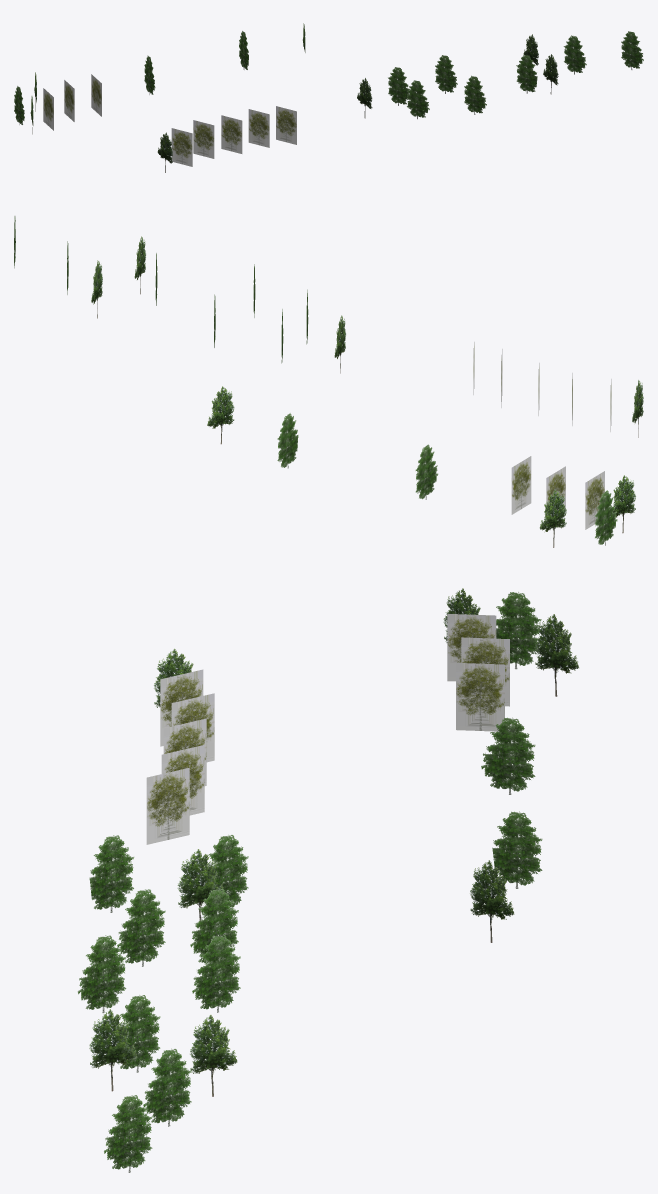
File: foliage1.FBX
The picture shows the model from 3 angles, top to bottom: view 1: azimuth 30°, elevation 25°; view 2: azimuth 150°, elevation 25°; view 3: azimuth 270°, elevation 25°; orthographic projection. The views are drawn at different scales.
Parts seen in each view (by area): view 1: rightGrow; view 2: rightGrow; view 3: rightGrow.
Boxes of the visible parts, <box> form: rightGrow: <box>14,23,643,172</box>; rightGrow: <box>14,216,643,547</box>; rightGrow: <box>77,588,578,1172</box>.
Bounding box in the file's own units: 10283 × 800 × 4258.
